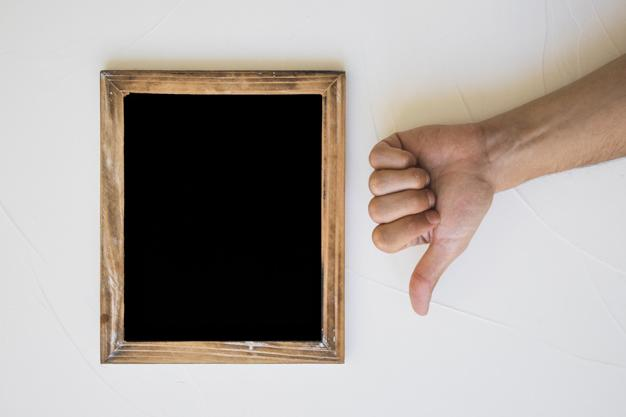thumbsdown: (368, 142, 453, 316)
